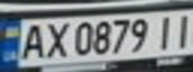0: (69, 19, 97, 57)
7: (109, 16, 133, 55)
8: (90, 18, 115, 56)
9: (127, 15, 154, 53)
A: (15, 20, 48, 61)
I: (151, 12, 181, 51), (169, 10, 193, 48)
X: (39, 19, 72, 60)
